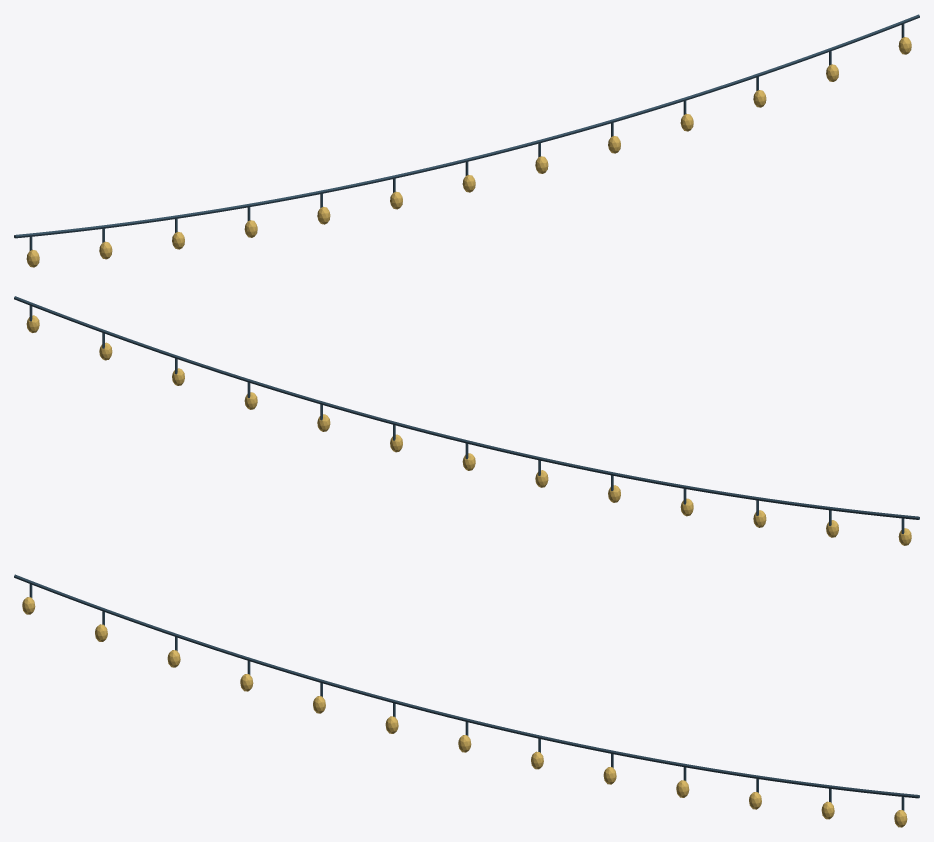
Rendered from fairy_lights.glb.
3 renders of one model, top to bottom at view 1: azimuth 30°, elevation 25°; view 2: azimuth 150°, elevation 25°; view 3: azimuth 330°, elevation 25°, orthographic.
Parts seen in each view (by area): view 1: fairy_lights_Mesh; view 2: fairy_lights_Mesh; view 3: fairy_lights_Mesh.
Boxes of the visible parts, x1,y1,x2,y2 form: fairy_lights_Mesh: (14,14,919,267); fairy_lights_Mesh: (14,296,919,545); fairy_lights_Mesh: (14,574,919,827).
Bounding box in the file's own units: 2.8 × 0.196 × 0.036.
